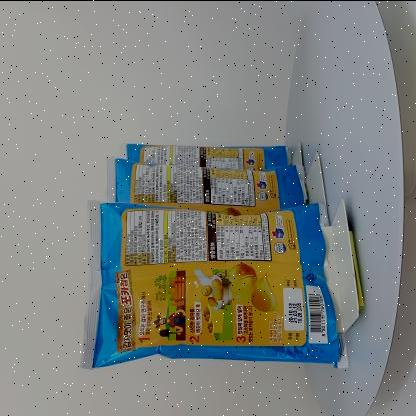Others: (64, 129, 354, 377)
